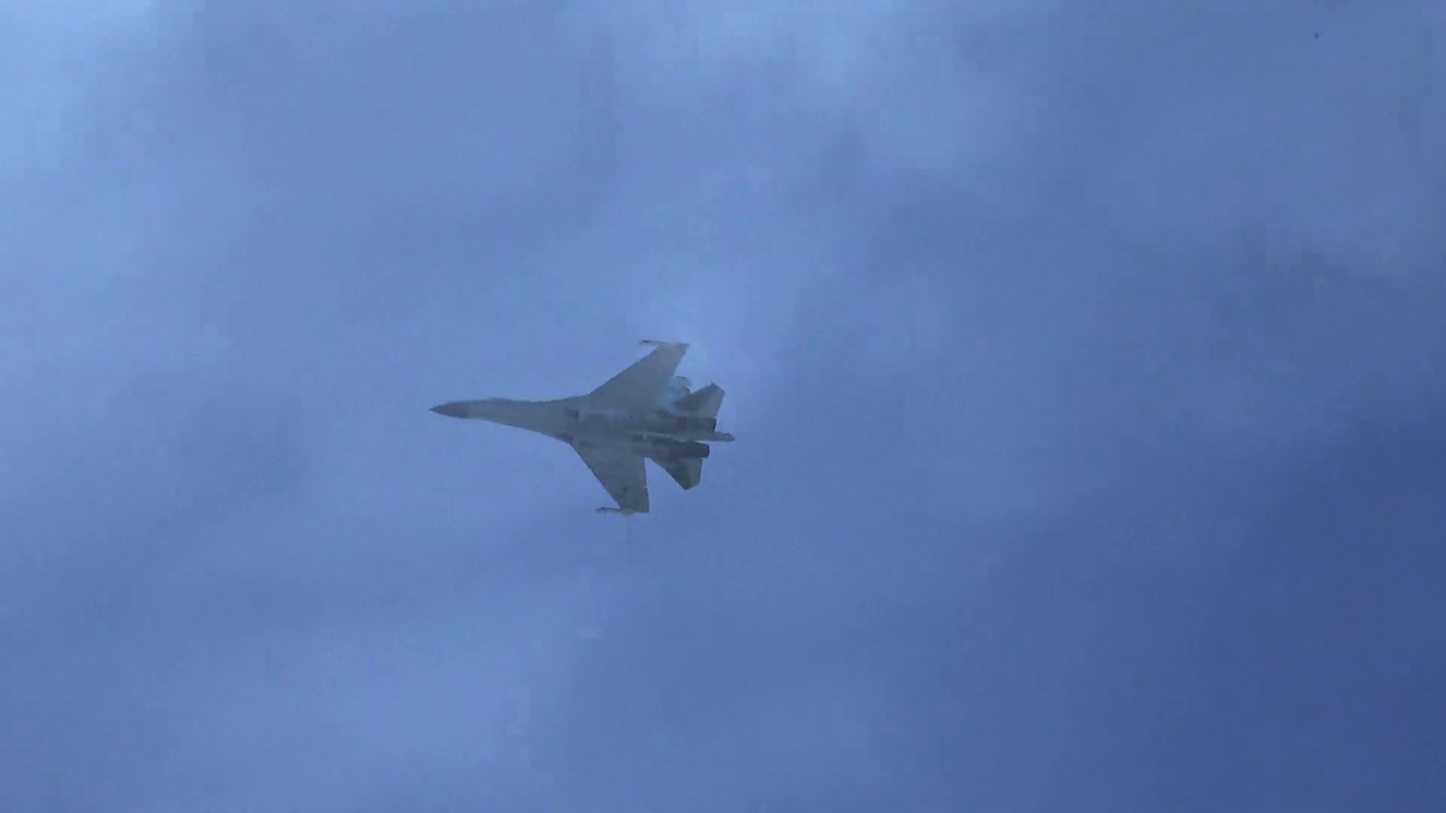Su35: (429, 340, 735, 516)
